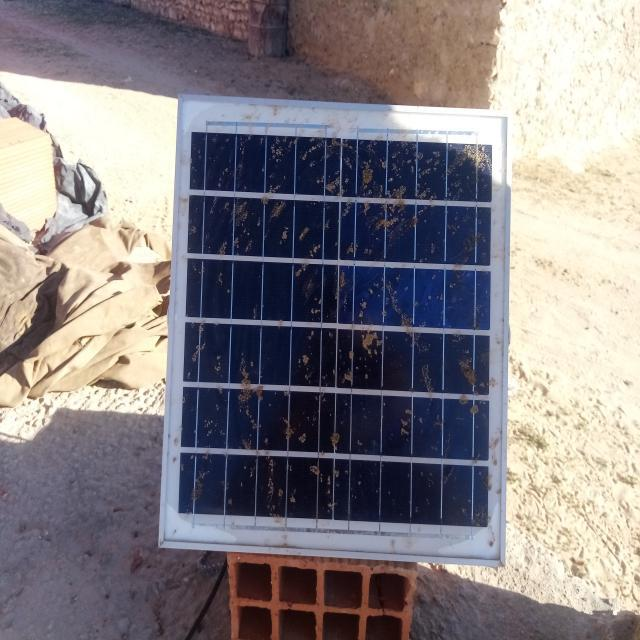faulty: (161, 98, 509, 566)
